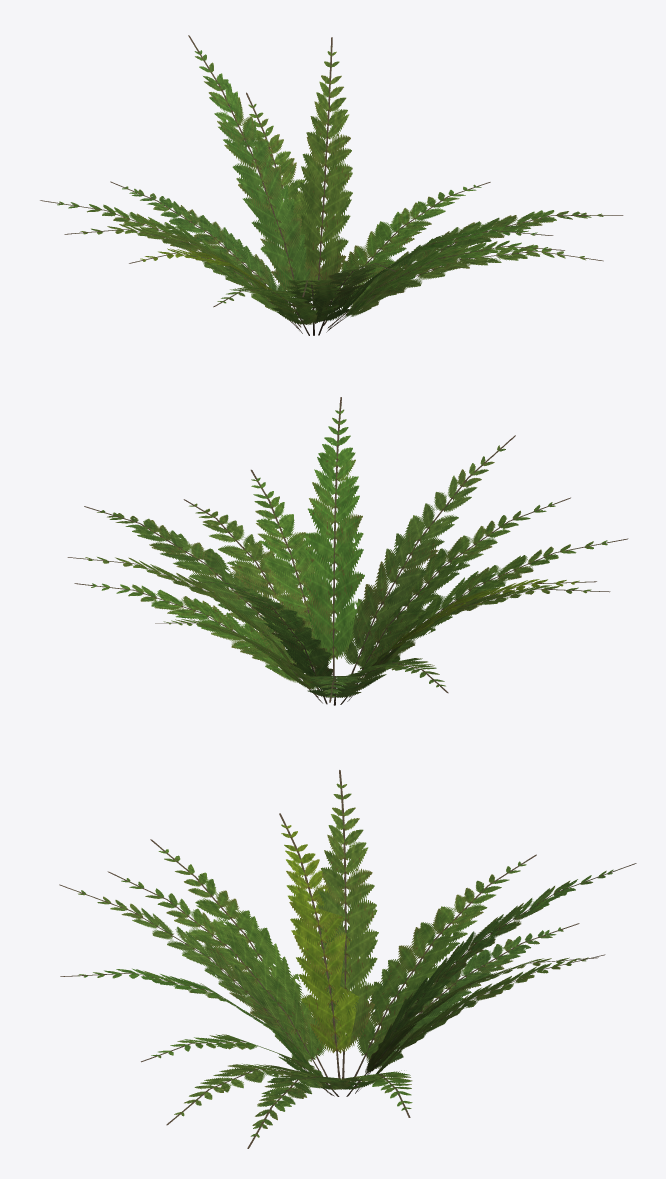
The model's file is kapradi_2.glb.
The picture shows the model from 3 angles, top to bottom: view 1: azimuth 30°, elevation 25°; view 2: azimuth 150°, elevation 25°; view 3: azimuth 270°, elevation 25°; orthographic projection. The views are drawn at different scales.
Visible parts, largest first — view 1: kapradi_2; view 2: kapradi_2; view 3: kapradi_2.
Boxes of the visible parts, left/top/right/bottom form: kapradi_2: left=40, top=35, right=623, bottom=335; kapradi_2: left=67, top=397, right=628, bottom=705; kapradi_2: left=59, top=770, right=636, bottom=1148.
Size of the model in its own units: 1.92 by 0.6766 by 1.67.
Materials: 1 (1 with a texture image).
